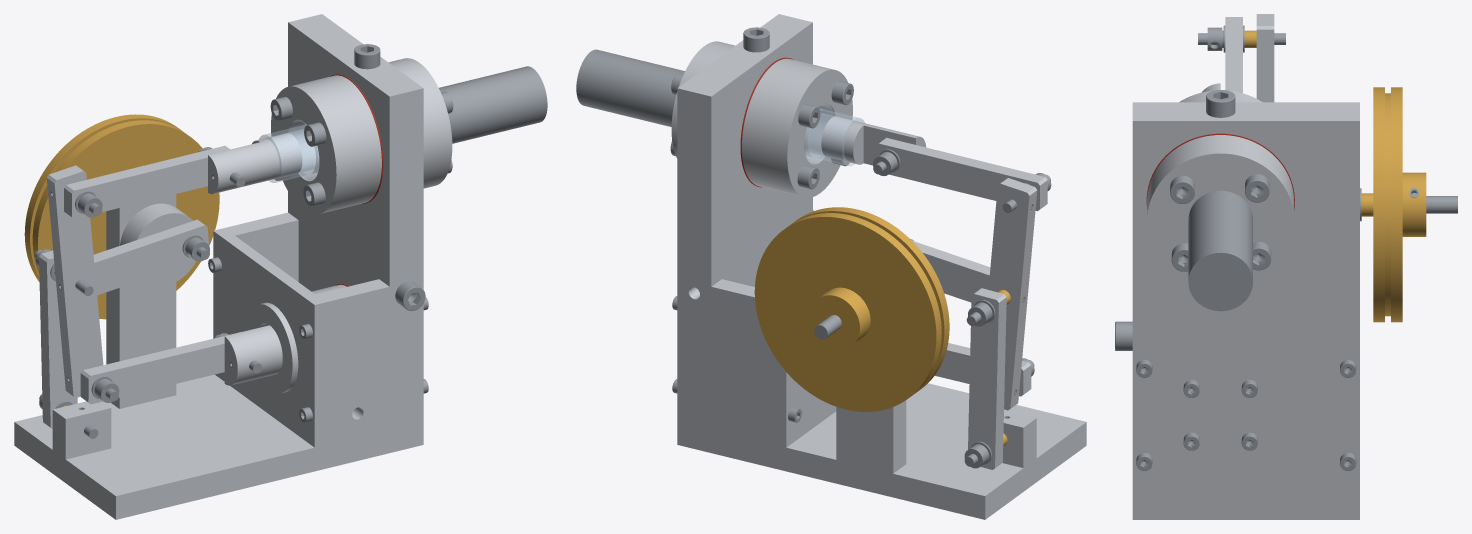
File: engine.glb
3 renders of one model, left to right at view 1: azimuth 30°, elevation 25°; view 2: azimuth 150°, elevation 25°; view 3: azimuth 270°, elevation 25°, orthographic. The views are drawn at different scales.
Visible parts, largest first — view 1: 01_base, 02_side_plate, 13_t_crank, 26_water_cooling_plate_side_plate_side, 03_flywheel, 06_hot_cylinder_jacket, 24_water_cooling_plate_mechanism_side, 11_center_shaft_base_connector, 07_heating_cap, 15_piston_drive_rod__1, 15_piston_drive_rod__2, 08_hot_piston_adapter (+10 smaller); view 2: 03_flywheel, 02_side_plate, 01_base, 06_hot_cylinder_jacket, 25_water_cooling_plate_wheel_side, 13_t_crank, 07_heating_cap, 14_t_crank_guide_rod, 15_piston_drive_rod__1, 11_center_shaft_base_connector, 08_hot_piston_adapter, 26_water_cooling_plate_side_plate_side (+5 smaller); view 3: 02_side_plate, 05_heating_cap_jacket, 03_flywheel, 07_heating_cap, 01_base, 13_t_crank, 15_piston_drive_rod__1, 33_bolt_m6x25, 36_bolt_m5x20__1, 36_bolt_m5x20__2, 18_center_shaft, 34_bolt_m6x20 (+4 smaller).
Boxes of the visible parts, bbox=[...] form: 01_base: bbox=[14, 374, 423, 519]; 02_side_plate: bbox=[288, 14, 423, 429]; 13_t_crank: bbox=[46, 165, 209, 397]; 26_water_cooling_plate_side_plate_side: bbox=[213, 228, 325, 447]; 03_flywheel: bbox=[24, 114, 219, 319]; 06_hot_cylinder_jacket: bbox=[271, 75, 381, 214]; 24_water_cooling_plate_mechanism_side: bbox=[316, 279, 389, 444]; 11_center_shaft_base_connector: bbox=[106, 194, 176, 408]; 07_heating_cap: bbox=[439, 66, 547, 143]; 15_piston_drive_rod__1: bbox=[64, 145, 229, 218]; 15_piston_drive_rod__2: bbox=[80, 332, 240, 404]; 08_hot_piston_adapter: bbox=[208, 133, 302, 194]; 03_flywheel: bbox=[754, 207, 949, 411]; 02_side_plate: bbox=[677, 14, 812, 429]; 01_base: bbox=[677, 383, 1086, 519]; 06_hot_cylinder_jacket: bbox=[742, 58, 852, 197]; 25_water_cooling_plate_wheel_side: bbox=[711, 279, 774, 444]; 13_t_crank: bbox=[912, 178, 1037, 410]; 07_heating_cap: bbox=[576, 49, 684, 126]; 14_t_crank_guide_rod: bbox=[968, 288, 1006, 469]; 15_piston_drive_rod__1: bbox=[876, 137, 1047, 211]; 11_center_shaft_base_connector: bbox=[836, 400, 906, 473]; 08_hot_piston_adapter: bbox=[821, 116, 926, 165]; 26_water_cooling_plate_side_plate_side: bbox=[775, 357, 836, 447]; 02_side_plate: bbox=[1132, 102, 1359, 493]; 05_heating_cap_jacket: bbox=[1147, 135, 1293, 279]; 03_flywheel: bbox=[1373, 87, 1426, 322]; 07_heating_cap: bbox=[1188, 190, 1252, 311]; 01_base: bbox=[1132, 493, 1359, 519]; 13_t_crank: bbox=[1256, 14, 1274, 102]; 15_piston_drive_rod__1: bbox=[1225, 17, 1242, 93]; 33_bolt_m6x25: bbox=[1206, 90, 1235, 117]; 36_bolt_m5x20__1: bbox=[1245, 174, 1269, 202]; 36_bolt_m5x20__2: bbox=[1170, 175, 1194, 203]; 18_center_shaft: bbox=[1426, 196, 1457, 213]; 34_bolt_m6x20: bbox=[1115, 321, 1132, 350].
Bounding box in the file's own units: 0.2037 × 0.156 × 0.1168.
